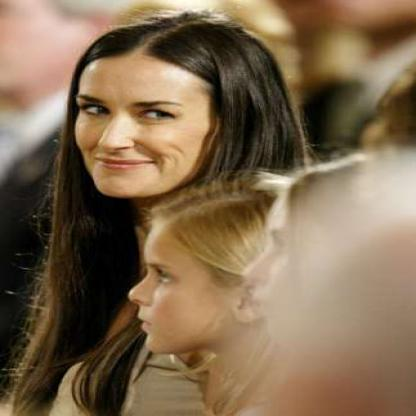face: (46, 28, 229, 201), (104, 203, 252, 356)
